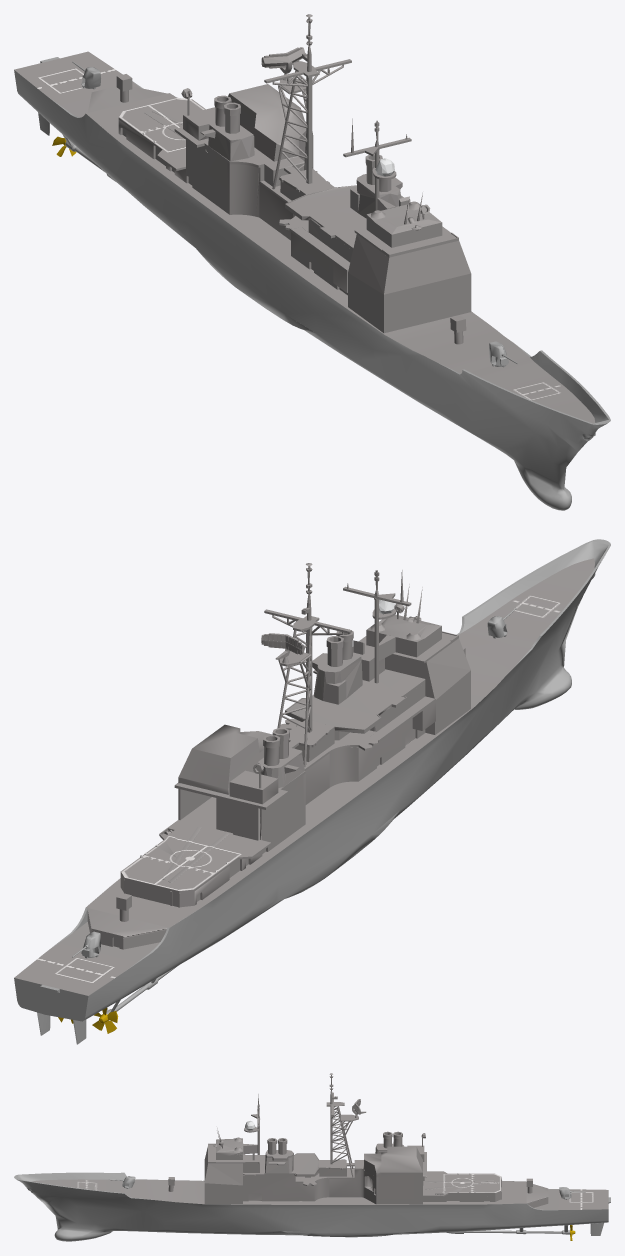
File: VALLEY.fbx
The picture shows the model from 3 angles, top to bottom: view 1: azimuth 30°, elevation 25°; view 2: azimuth 150°, elevation 25°; view 3: azimuth 270°, elevation 25°; orthographic projection. The views are drawn at different scales.
Visible parts, largest first — view 1: v-casco, v-cubier, v-cubi6, v-cubi3, v-cubi7, v-cabina1, v-torre1, v-cubi4, v-cubi10, v-chim2, v-chim1, v-cubi12 (+3 smaller); view 2: v-casco, v-cubier, v-cubi3, v-cubi4, v-cubi7, v-cubi10, v-cubi6, v-torre1, v-cabina1, v-chim1, v-cubi12, v-chim2 (+6 smaller); view 3: v-casco, v-cubier, v-cubi8, v-cubi4, v-cubi6, v-cubi7, v-torre1, v-cabina1, v-chim1, v-cubi12, v-cubi10, v-cubi5 (+3 smaller).
Part boxes in pixels (box(x1,y1,x2,y2)): v-casco: box(14, 57, 610, 510); v-cubier: box(14, 51, 595, 423); v-cubi6: box(348, 234, 471, 333); v-cubi3: box(118, 120, 352, 295); v-cubi7: box(174, 84, 313, 186); v-cabina1: box(354, 193, 458, 257); v-torre1: box(264, 14, 351, 189); v-cubi4: box(118, 97, 205, 170); v-cubi10: box(285, 185, 366, 249); v-chim2: box(200, 95, 254, 161); v-chim1: box(350, 154, 403, 218); v-cubi12: box(259, 166, 334, 231); v-casco: box(14, 539, 610, 1044); v-cubier: box(14, 558, 594, 995); v-cubi3: box(194, 682, 425, 905); v-cubi4: box(120, 797, 271, 893); v-cubi7: box(174, 724, 305, 809); v-cubi10: box(285, 669, 425, 733); v-cubi6: box(385, 638, 470, 734); v-torre1: box(264, 563, 351, 766); v-cabina1: box(358, 584, 458, 663); v-chim1: box(312, 629, 362, 704); v-cubi12: box(280, 718, 378, 770); v-chim2: box(258, 728, 304, 787); v-casco: box(14, 1172, 610, 1241); v-cubier: box(32, 1179, 608, 1209); v-cubi8: box(243, 1170, 422, 1204); v-cubi4: box(423, 1171, 501, 1196); v-cubi6: box(204, 1147, 242, 1203); v-cubi7: box(354, 1146, 426, 1177); v-torre1: box(326, 1073, 358, 1177); v-cabina1: box(208, 1128, 245, 1163); v-chim1: box(265, 1138, 293, 1173); v-cubi12: box(295, 1159, 354, 1185); v-cubi10: box(243, 1153, 319, 1176); v-cubi5: box(423, 1194, 495, 1201).
Size of the model in its own units: 2488 by 7785 by 25200.
